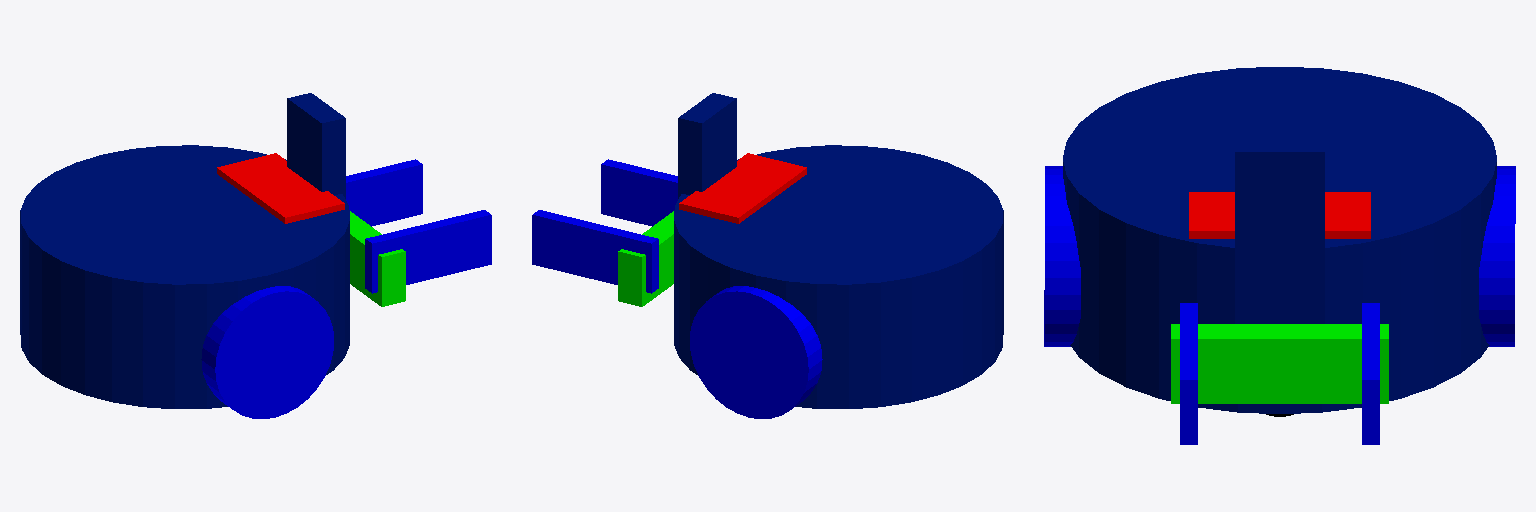
URDF robot description (Robot with wrench):
<robot name="Robot with wrench">
	<!-- CHASSIS LINK -->
	<link name="base_link">
		
		<inertial>
			<mass value="5"/>
		</inertial>

		<visual name="chassis">
			<origin xyz="0 0 0.06" rpy="0 0 0"/>
			<geometry>
				<cylinder radius="0.12" length="0.1"/>
			</geometry>
			<material name="">
				<color rgba="0 0.1 0.5 1"/>
			</material>
		</visual>
		
		<visual name="front_flag">
			<origin xyz="0.08 0 0.11" rpy="0 0 0"/>
			<geometry>
				<box size="0.05 0.1 0.01"/>
			</geometry>
			<material name="">
				<color rgba="1 0 0 1"/>
			</material>
		</visual>

		<collision name="chassis">
			<origin xyz="0 0 0.06" rpy="0 0 0"/>
			<geometry>
				<cylinder radius="0.12" length="0.1"/>
			</geometry>
		</collision>
		
		<visual name="elevator">
			<origin xyz="0.11 0 0.1" rpy="0 0 0"/>
			<geometry>
			<box size="0.02 0.05 0.14"/>
			</geometry>
			<material name="">
				<color rgba="0 0.1 0.5 1"/>
			</material>
		</visual>
	</link>
	
	<!-- RIGHT WHEEL LINK --> 
	<link name="right_wheel">
		<inertial>
			<mass value="1"/>
		</inertial>
		<visual>
			<origin xyz="0 0 0" rpy="1.57 0 0"/>
			<geometry>
				<cylinder radius="0.05" length="0.02"/>
			</geometry>
			<material>
				<color rgba="0 0 1 1"/>
			</material>
		</visual>

		<collision>
			<origin xyz="0 0 0" rpy="1.57 0 0"/>
			<geometry>
				<cylinder radius="0.05" length="0.02"/>
			</geometry>
		</collision>

	</link>
	
	<joint name="right_joint" type="continuous">
		<origin xyz="0 -0.12 0.05" rpy="0 0 0"/>
		<parent link="base_link"/>
		<child link="right_wheel"/>
		<axis xyz="0.0 1.0 0.0"/>
		<limit effort="10" velocity="5.0"/>
	</joint>
	
	<!-- LEFT WHEEL LINK -->
	<link name="left_wheel">
		<inertial>
			<mass value="1"/>
		</inertial>
		<visual>
			<origin xyz="0 0 0" rpy="1.57 0 0"/>
			<geometry>
				<cylinder radius="0.05" length="0.02"/>
			</geometry>
			<material>
				<color rgba="0 0 1 1"/>
			</material>
		</visual>

		<collision>
			<origin xyz="0 0 0" rpy="1.57 0 0"/>
			<geometry>
				<cylinder radius="0.05" length="0.02"/>
			</geometry>
		</collision>

	</link>
	
	<joint name="left_joint" type="continuous">
		<origin xyz="0 0.12 0.05" rpy="0 0 0"/>
		<parent link="base_link"/>
		<child link="left_wheel"/>
		<axis xyz="0.0 1.0 0.0"/>
		<limit effort="10" velocity="5.0"/>
	</joint>
	
	<!-- BACK CASTER WHEEL LINK -->
	<link name="back_caster_wheel">
        <visual>
            <geometry>
                <sphere radius="0.02"/>
            </geometry>
        <material>
			<color rgba="0 0 0 1"/>
		</material>
        </visual>
		
        <collision>
            <geometry>
				<!--><box size="0.1 0.1 0.04"/> -->
                <sphere radius="0.02"/>
            </geometry>
        </collision>
		
		<inertial>
			<mass value="0.1"/>
			<friction value="0.0" />
		</inertial>

    </link>
	
	<joint name="back_caster_joint" type="fixed">
		<origin xyz="-0.10 0.0 0.021" rpy="0 0 0"/>
		<parent link="base_link"/>
		<child link="back_caster_wheel"/>
	</joint>
	
	<!-- FRONT CASTER WHEEL LINK -->
	<link name="front_caster_wheel">
        <visual>
            <geometry>
                <sphere radius="0.02"/>
            </geometry>
        <material>
			<color rgba="0 0 0 1"/>
		</material>
        </visual>
		
        <collision>
            <geometry>
				<!--><box size="0.1 0.1 0.04"/> -->
                <sphere radius="0.02"/>
            </geometry>
        </collision>
		
		<inertial>
			<mass value="2"/>
			<friction value="0.0" />
		</inertial>

    </link>
	
	<joint name="front_caster_joint" type="fixed">
		<origin xyz="0.10 0.0 0.021" rpy="0 0 0"/>
		<parent link="base_link"/>
		<child link="front_caster_wheel"/>
	</joint>
	
	<!-- ELEVATOR LINK -->
	
	<link name="elevator_link">
		
		<visual name="elevator">
			<origin xyz="0 0 0" rpy="0 0 0"/>
			<geometry>
				<box size="0.02 0.12 0.04"/>
			</geometry>
			<material name="">
			<color rgba="0 1 0 1"/>
			</material>
		</visual>

		<collision name="">
			<origin xyz="0 0 0" rpy="0 0 0"/>
			<geometry>
				<box size="0.02 0.12 0.04"/>
			</geometry>
		</collision>
		
		
		<visual name="slider">
			<origin xyz="-0.01 0 0" rpy="0 0 0"/>
			<geometry>
			<box size="0.03 0.02 0.03"/>
			</geometry>
			<material name="">
			<color rgba="0 1 0 1"/>
			</material>
		</visual>

		<collision name="">
			<origin xyz="-0.01 0 0" rpy="0 0 0"/>
			<geometry>
			<box size="0.03 0.02 0.03"/>
			</geometry>
		</collision>

		<inertial>
			<mass value="0.1"/>
		</inertial>
	</link>
	
	<joint name="elevator_joint" type="prismatic">
		<origin xyz="0.14 0 0.05" rpy="0 0 0"/>
		<parent link="base_link"/>
		<child link="elevator_link"/>
		<axis xyz="0.0 0.0 1.0"/>
		<limit lower="0.0" upper="0.1" effort="10.0" velocity="0.5"/>
	</joint>

	<!-- LEFT WRENCH LINK -->
	
	<link name="left_wrench_link">

		<visual name="moveable_wrench">
			<origin xyz="0.035 0 0" rpy="0 0 0"/>
			<geometry>
			<box size="0.1 0.01 0.04"/>
			</geometry>
			<material name="">
			<color rgba="0 0 1 1"/>
			</material>
		</visual>

		<collision name="">
			<origin xyz="0.035 0 0" rpy="0 0 0"/>
			<geometry>
			<box size="0.1 0.01 0.04"/>
			</geometry>
		</collision>

		<inertial>
			<mass value="0.1"/>
		</inertial>
	</link>

	<joint name="left_wrench_joint" type="revolute">
		<origin xyz="0 0.05 0.01" rpy="0 0 0"/>
		<parent link="elevator_link"/>
		<child link="left_wrench_link"/>
		<axis xyz="0.0 0.0 1.0"/>
		<limit lower="-1.57" upper="0" effort="10.0" velocity="1.0"/>
	</joint>
	
	<!-- RIGHT WRENCH LINK -->
	
	<link name="right_wrench_link">

		<visual name="moveable_wrench">
			<origin xyz="0.035 0 0" rpy="0 0 0"/>
			<geometry>
			<box size="0.1 0.01 0.04"/>
			</geometry>
			<material name="">
			<color rgba="0 0 1 1"/>
			</material>
		</visual>

		<collision name="">
			<origin xyz="0.035 0 0" rpy="0 0 0"/>
			<geometry>
			<box size="0.1 0.01 0.04"/>
			</geometry>
		</collision>

		<inertial>
			<mass value="0.1"/>
		</inertial>
	</link>

	<joint name="right_wrench_joint" type="revolute">
		<origin xyz="0 -0.05 0.01" rpy="0 0 0"/>
		<parent link="elevator_link"/>
		<child link="right_wrench_link"/>
		<axis xyz="0.0 0.0 1.0"/>
		<limit lower="0" upper="1.57" effort="10.0" velocity="1.0"/>
	</joint>
	
	<gobotics name="control_robot" type="diff_drive">
        <right_wheel joint="right_joint"/>
        <left_wheel joint="left_joint"/>
		<max_speed value="6.0"/>
    </gobotics>
	
	<gobotics name="control_wrench" type="grouped_joints">
		<input name="wrench_in" lower="0" upper="1"/>
		<output joint="left_wrench_joint" factor="-0.5"/>
		<output joint="right_wrench_joint" factor="0.5"/>
    </gobotics>
</robot>

--- Facts derived from the render (not from the file) ---
The picture shows the robot from 3 angles, left to right: view 1: azimuth 30°, elevation 25°; view 2: azimuth 150°, elevation 25°; view 3: azimuth 270°, elevation 25°; orthographic projection.
Robot: Robot with wrench — 8 links, 7 joints (2 revolute, 2 continuous, 1 prismatic, 2 fixed); root link base_link; default pose: every joint at zero.
Visible links, largest first — view 1: base_link, right_wheel, right_wrench_link, left_wrench_link, elevator_link; view 2: base_link, left_wheel, left_wrench_link, right_wrench_link, elevator_link; view 3: base_link, elevator_link, left_wheel, right_wheel, left_wrench_link, right_wrench_link.
Boxes of the visible links, <box> form: base_link: <box>20,93,349,408</box>; right_wheel: <box>201,286,333,418</box>; right_wrench_link: <box>365,210,491,293</box>; left_wrench_link: <box>346,159,422,226</box>; elevator_link: <box>350,211,405,306</box>; base_link: <box>674,93,1003,408</box>; left_wheel: <box>690,286,822,418</box>; left_wrench_link: <box>532,210,658,293</box>; right_wrench_link: <box>601,159,677,226</box>; elevator_link: <box>618,211,673,306</box>; base_link: <box>1063,67,1496,413</box>; elevator_link: <box>1171,324,1388,403</box>; left_wheel: <box>1479,166,1515,346</box>; right_wheel: <box>1044,166,1080,346</box>; left_wrench_link: <box>1362,303,1379,444</box>; right_wrench_link: <box>1180,303,1197,444</box>.
Bounding box of the posed robot: 0.345 × 0.2601 × 0.17 m (x, y, z).
Geometry: primitives only (box / cylinder / sphere), no mesh files.